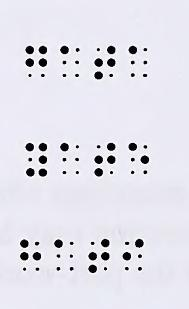a: (128, 141, 149, 176), (54, 239, 75, 274), (59, 144, 80, 176), (61, 44, 80, 79), (129, 45, 149, 78)
g: (25, 44, 48, 80)
h: (21, 238, 41, 275)
i: (122, 238, 143, 272)
t: (94, 142, 116, 178), (89, 239, 110, 275), (95, 45, 116, 80)
y: (24, 142, 48, 178)
